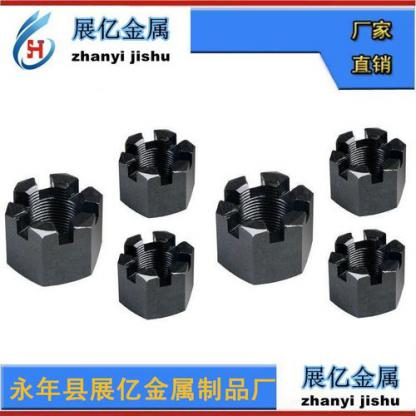FOD: (211, 161, 316, 287), (2, 172, 105, 291), (117, 228, 212, 318), (322, 224, 408, 322), (328, 124, 408, 217), (117, 129, 198, 217)
